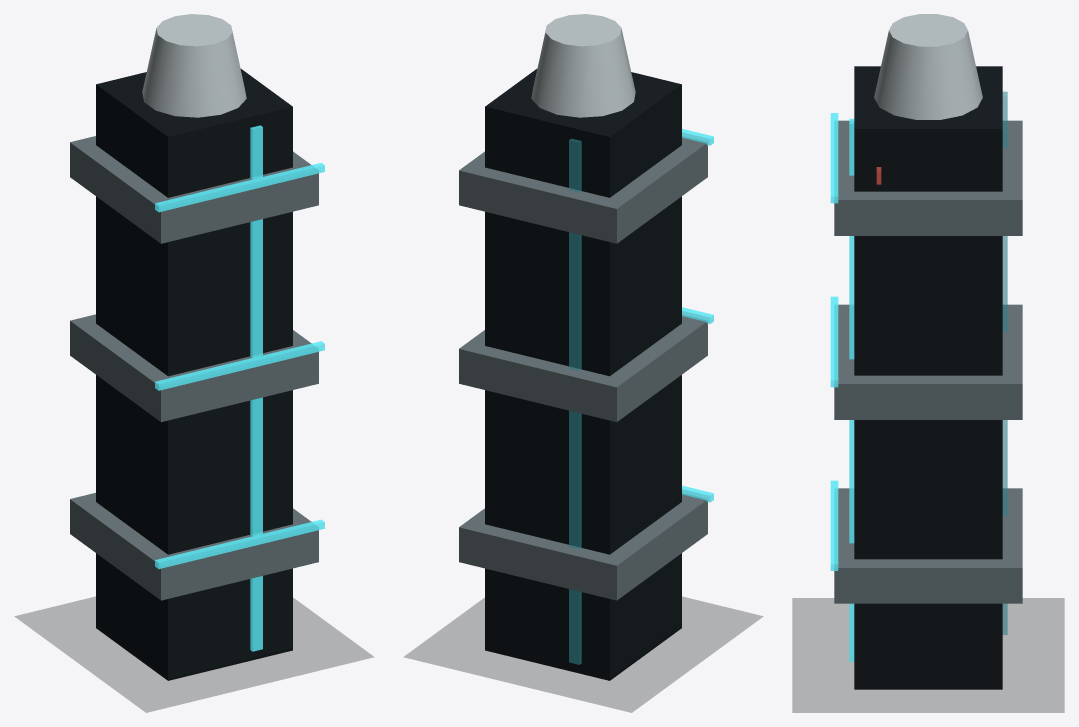
Rendered from hp_room_cyber_core_power_spine.glb.
3 renders of one model, left to right at view 1: azimuth 30°, elevation 25°; view 2: azimuth 150°, elevation 25°; view 3: azimuth 270°, elevation 25°, orthographic. The views are drawn at different scales.
Visible parts, largest first — view 1: spine_column, contact_shadow, collar_0, collar_2, collar_1, top_insulator, bus_line_front, collar_cyan_1, collar_cyan_0, collar_cyan_2; view 2: spine_column, contact_shadow, collar_0, collar_2, collar_1, top_insulator, bus_line_back; view 3: spine_column, contact_shadow, collar_0, collar_2, collar_1, top_insulator, bus_line_front, bus_line_back, collar_cyan_1, collar_cyan_0, collar_cyan_2.
Boxes of the visible parts, <box> form: spine_column: <box>96,69,292,680</box>; contact_shadow: <box>15,596,373,712</box>; collar_0: <box>70,493,318,600</box>; collar_2: <box>70,136,318,243</box>; collar_1: <box>70,314,318,422</box>; top_insulator: <box>142,14,246,117</box>; bus_line_front: <box>250,125,262,651</box>; collar_cyan_1: <box>155,341,324,390</box>; collar_cyan_0: <box>155,519,324,568</box>; collar_cyan_2: <box>155,162,324,212</box>; spine_column: <box>485,69,681,680</box>; contact_shadow: <box>404,596,762,712</box>; collar_0: <box>459,494,707,600</box>; collar_2: <box>459,137,707,243</box>; collar_1: <box>459,316,707,422</box>; top_insulator: <box>531,14,635,117</box>; bus_line_back: <box>569,138,581,664</box>; spine_column: <box>854,66,1002,689</box>; contact_shadow: <box>792,598,1064,712</box>; collar_0: <box>834,488,1022,603</box>; collar_2: <box>834,120,1022,235</box>; collar_1: <box>834,304,1022,419</box>; top_insulator: <box>874,14,982,119</box>; bus_line_front: <box>849,118,854,661</box>; bus_line_back: <box>1002,91,1007,634</box>; collar_cyan_1: <box>830,296,838,387</box>; collar_cyan_0: <box>830,480,838,570</box>; collar_cyan_2: <box>830,113,838,203</box>.
Size of the model in its own units: 1.1 by 2.8 by 1.1.
